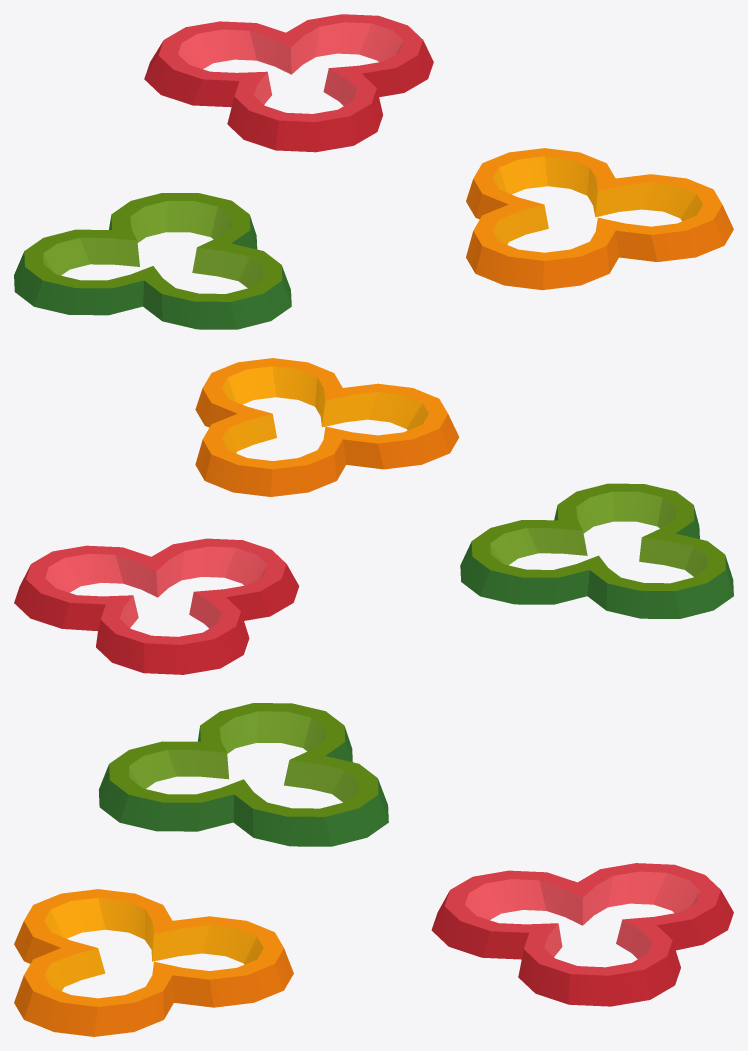
The model's file is peppers.glb.
The picture shows the model from 3 angles, top to bottom: view 1: azimuth 30°, elevation 25°; view 2: azimuth 150°, elevation 25°; view 3: azimuth 270°, elevation 25°; orthographic projection. The views are drawn at different scales.
Visible parts, largest first — view 1: Pepper_Slice; view 2: Pepper_Slice; view 3: Pepper_Slice.
Part boxes in pixels (left/top/right/bottom): Pepper_Slice: left=14, top=14, right=733, bottom=329; Pepper_Slice: left=14, top=358, right=733, bottom=674; Pepper_Slice: left=14, top=703, right=733, bottom=1036.
Bounding box in the file's own units: 0.2629 × 0.01 × 0.2558.
1 material, 1 textured.
